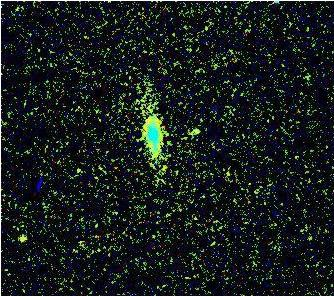star: (4, 224, 34, 254)
